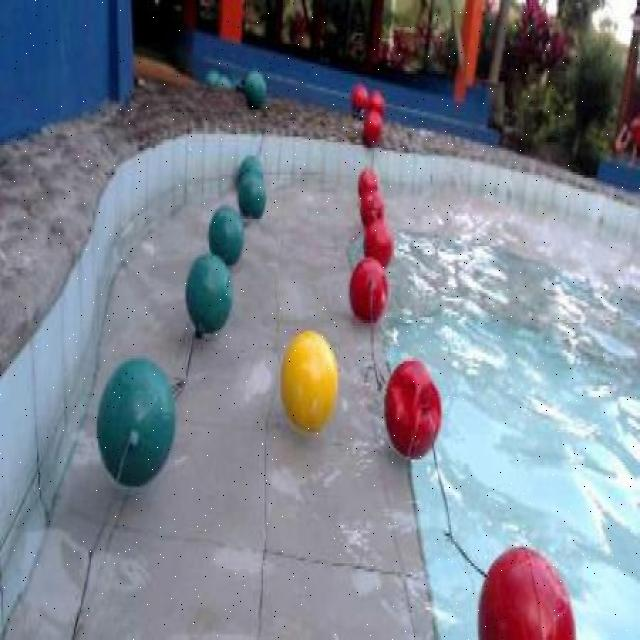buoy: (95, 356, 175, 486), (476, 544, 576, 638), (280, 328, 339, 432), (383, 356, 442, 460), (185, 252, 233, 334), (348, 256, 387, 324), (208, 202, 245, 263), (364, 220, 394, 272), (237, 171, 265, 217), (359, 190, 386, 231), (236, 156, 262, 194), (242, 68, 266, 107), (362, 108, 382, 144), (358, 167, 378, 200), (366, 89, 385, 119), (352, 81, 368, 111)
